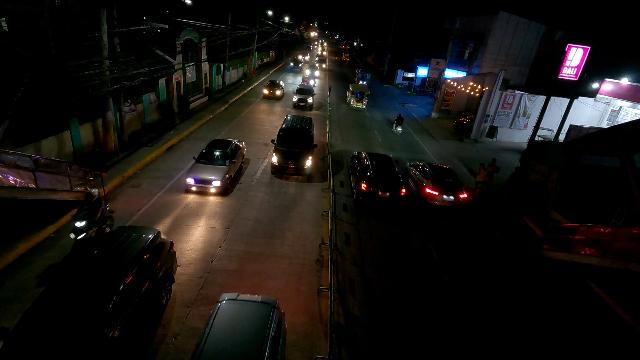car: (65, 224, 178, 341), (186, 291, 286, 360), (181, 136, 251, 198), (407, 158, 469, 220), (350, 149, 405, 205), (290, 83, 315, 110), (262, 80, 285, 100), (288, 55, 305, 70), (315, 55, 327, 73)
jeepney: (348, 84, 371, 112)
motorcycle: (75, 188, 107, 232), (391, 113, 405, 135)
van: (268, 116, 317, 179)
